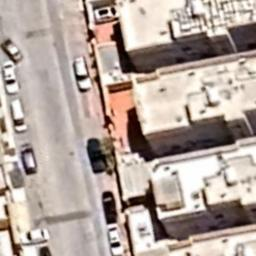SUV: (70, 55, 92, 92), (94, 6, 119, 22)
sedan: (106, 223, 126, 256), (0, 38, 25, 64), (18, 227, 50, 245), (2, 62, 20, 94), (101, 192, 118, 223)
unknown: (85, 137, 108, 175)
van: (8, 98, 28, 130), (20, 144, 38, 176)
